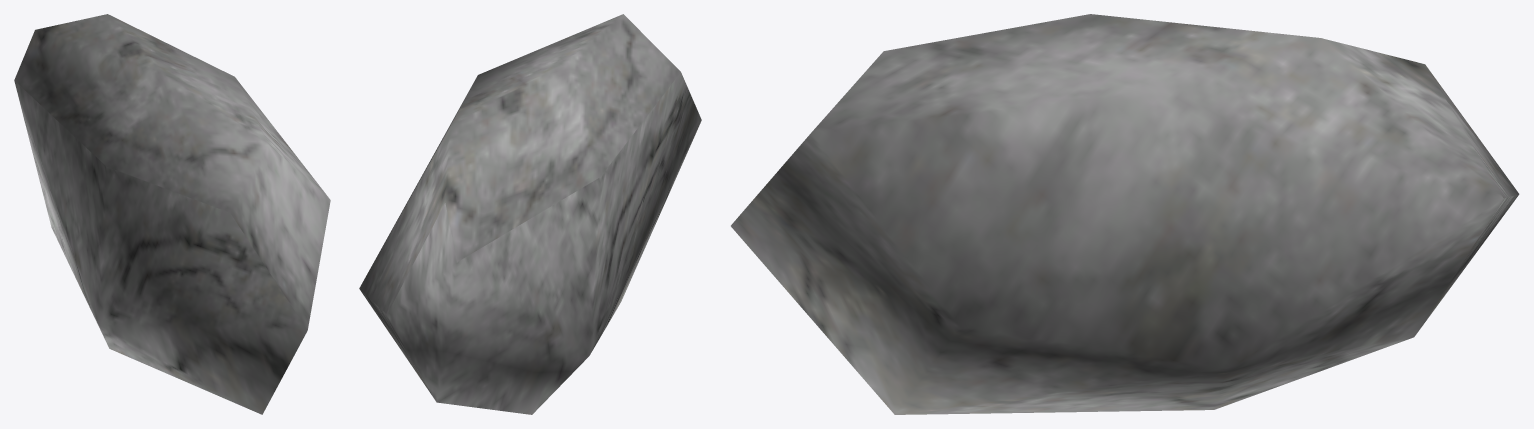
File: Камень йоки.fbx
3 views of the same model, side by side, from view 1: azimuth 30°, elevation 25°; view 2: azimuth 150°, elevation 25°; view 3: azimuth 270°, elevation 25° (orthographic). The views are drawn at different scales.
Parts seen in each view (by area): view 1: eoka stone; view 2: eoka stone; view 3: eoka stone.
Boxes of the visible parts, bbox=[...] form: eoka stone: bbox=[14, 14, 330, 414]; eoka stone: bbox=[359, 14, 701, 414]; eoka stone: bbox=[731, 14, 1519, 414].
Bounding box in the file's own units: 161 × 372 × 658.
1 material, 1 textured.
